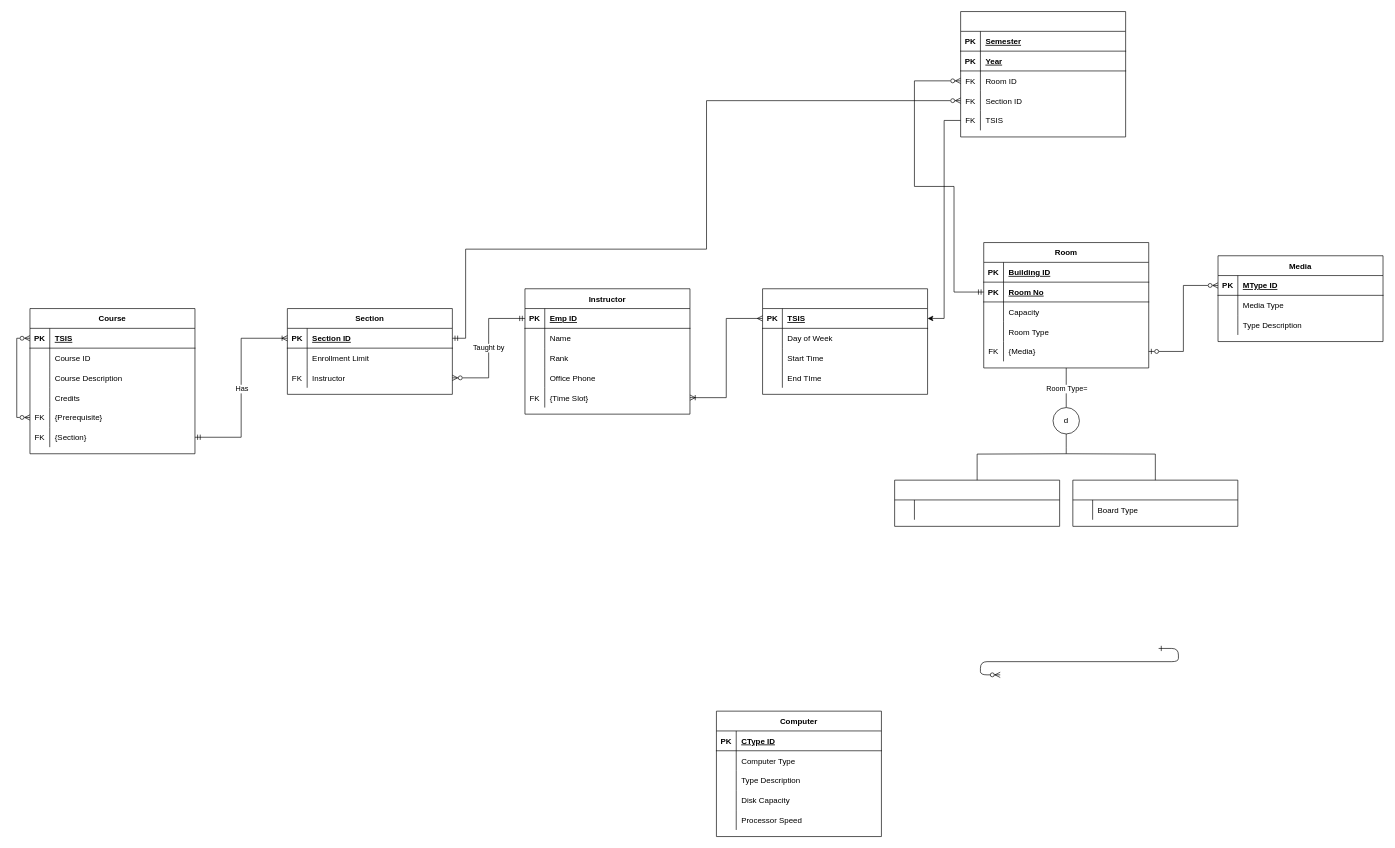
Some shapes in this 1395 by 848 pixel diagram are drawn without their labels. Each missing label, with the box of its shape:
Classroom: (1072, 479, 1238, 526)
Lab: (894, 479, 1060, 526)
Schedule: (960, 11, 1126, 137)
Time Slot: (762, 288, 928, 394)
